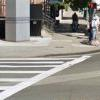Crosswalk: (2, 51, 79, 94)
